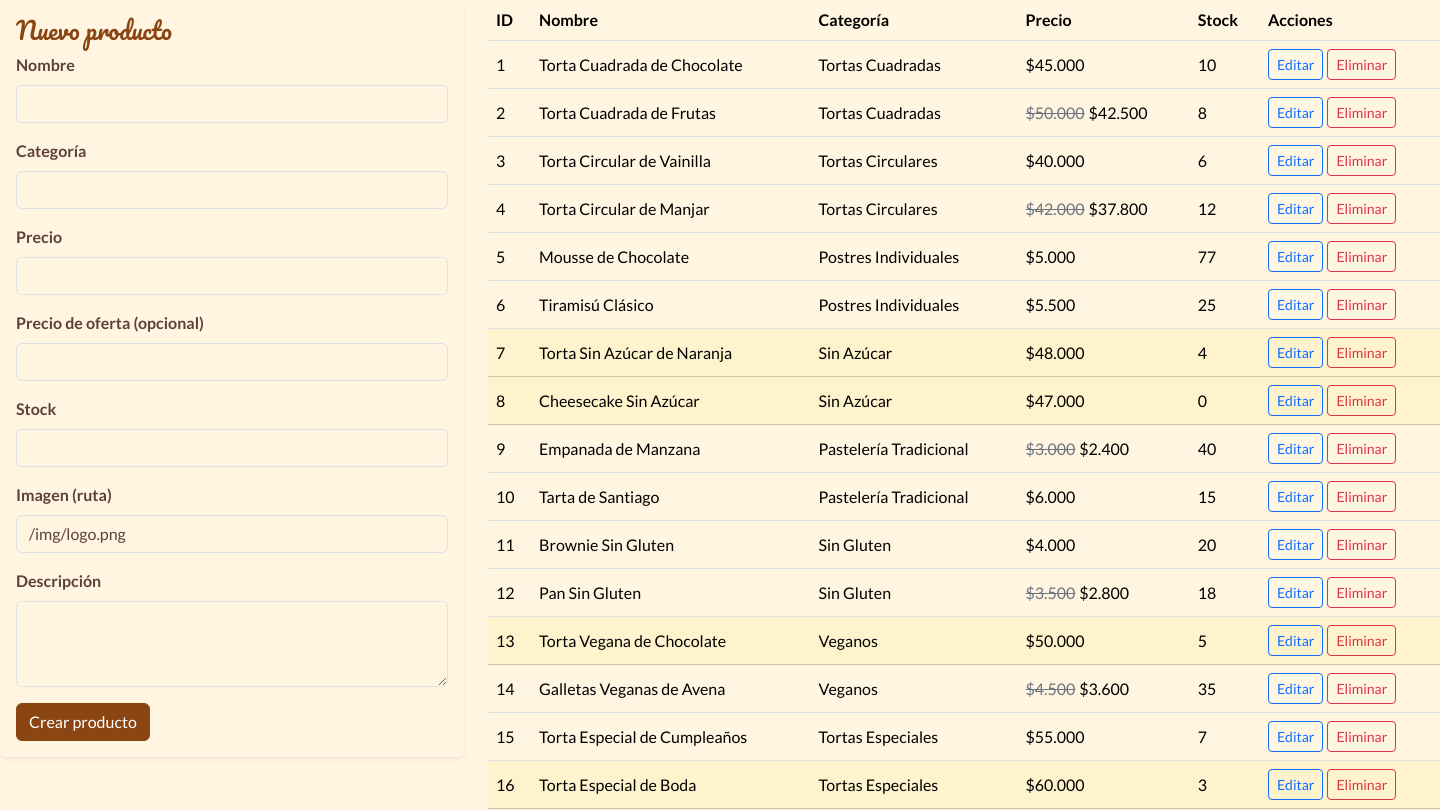
Test case: <AdminProductos /> (CRUD) › EDITAR y luego Cancelar vuelve al formulario de producto nuevo
This screenshot has width=1440, height=810.
Click the button "Editar" in the row of "Mousse de Chocolate": [1296, 256] box [1268,241,1323,272]
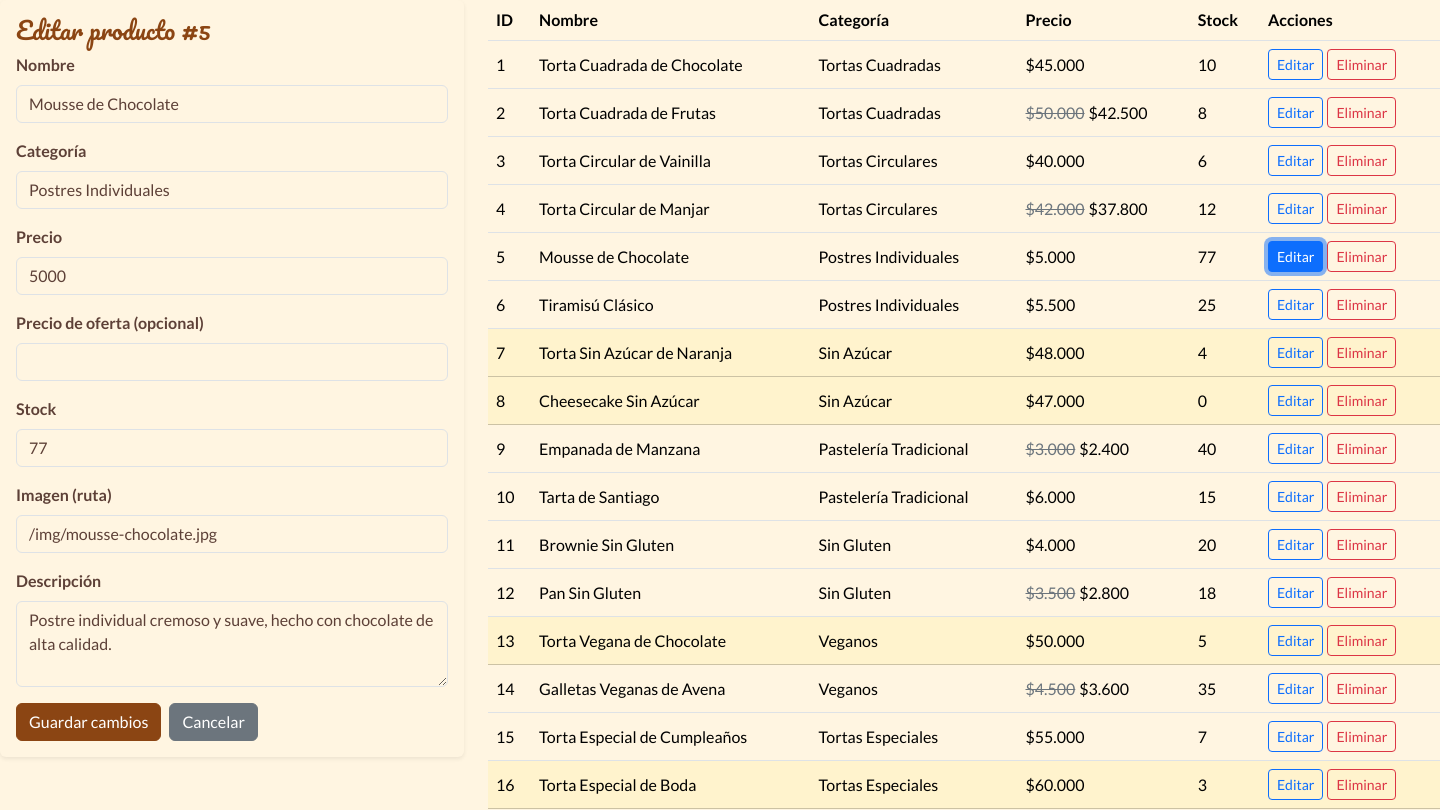
Click the button "Cancelar": [214, 722] box [169,703,258,741]
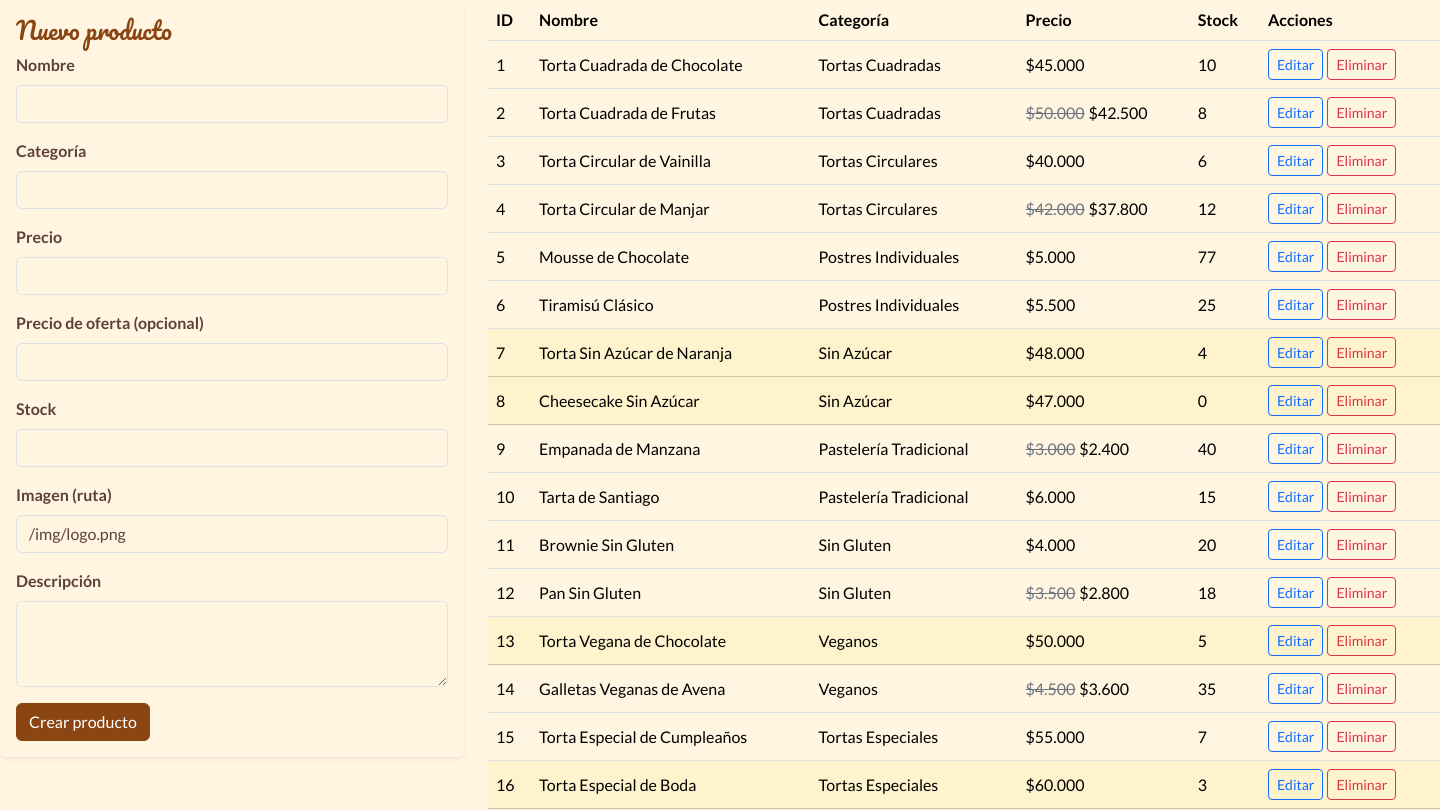
Now the button "Crear producto" is shown, box [16,703,150,741]
